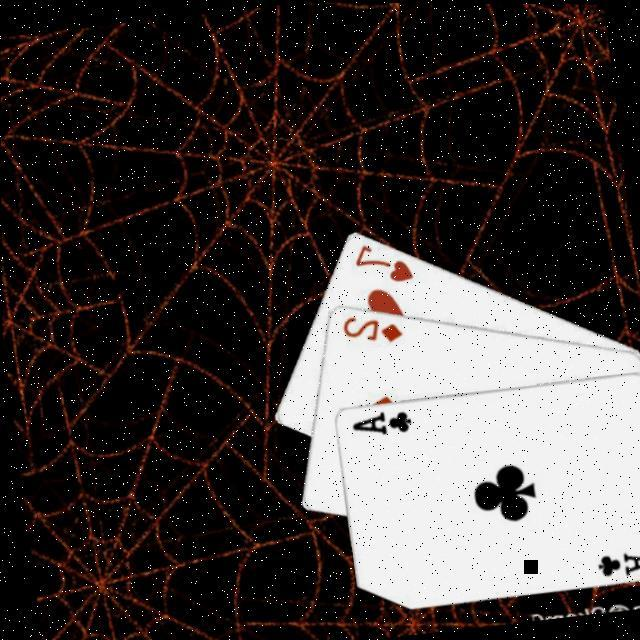2D: (338, 304, 407, 348)
7H: (349, 233, 417, 288)
AC: (348, 402, 415, 438), (592, 542, 640, 578)
